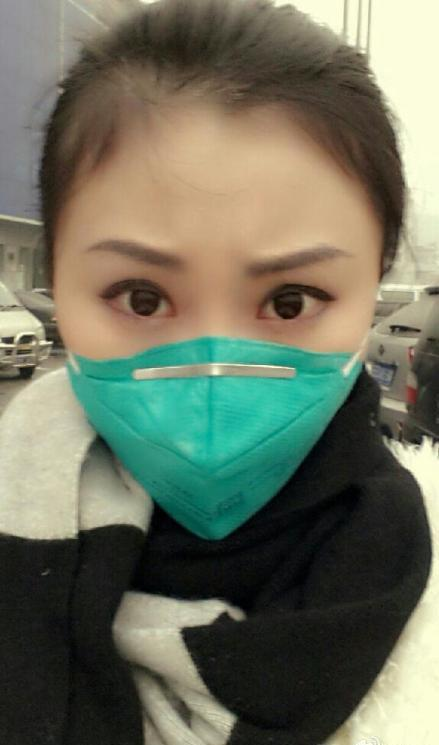OK: (59, 212, 373, 526)
